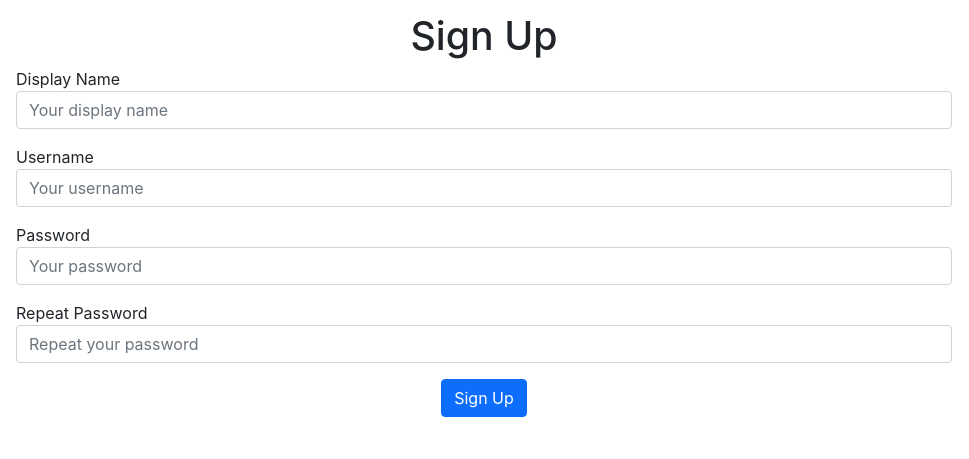
Test case: UserSignupPage › interactions › hides the validation error when the user changes the content of password
The image size is (969, 459).
In the field with placeholder "Your display name": (484, 110) [16,91,952,129], type "my-display-name"
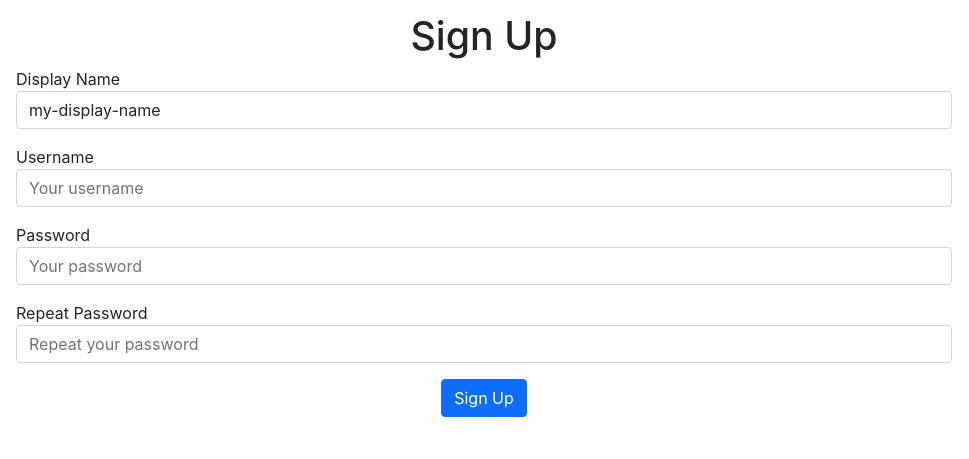
In the field with placeholder "Your username": (484, 188) [16,169,952,207], type "my-user-name"
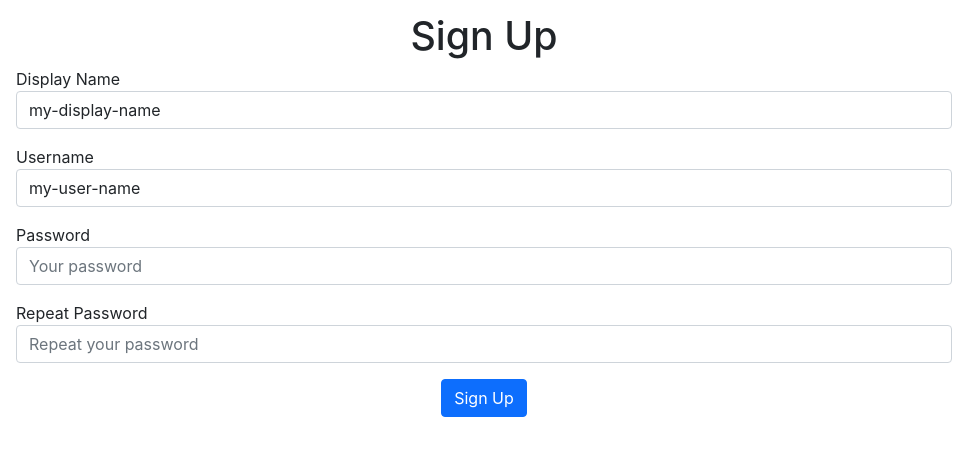
In the password field with placeholder "Your password": (484, 266) [16,247,952,285], type "P4ssword"
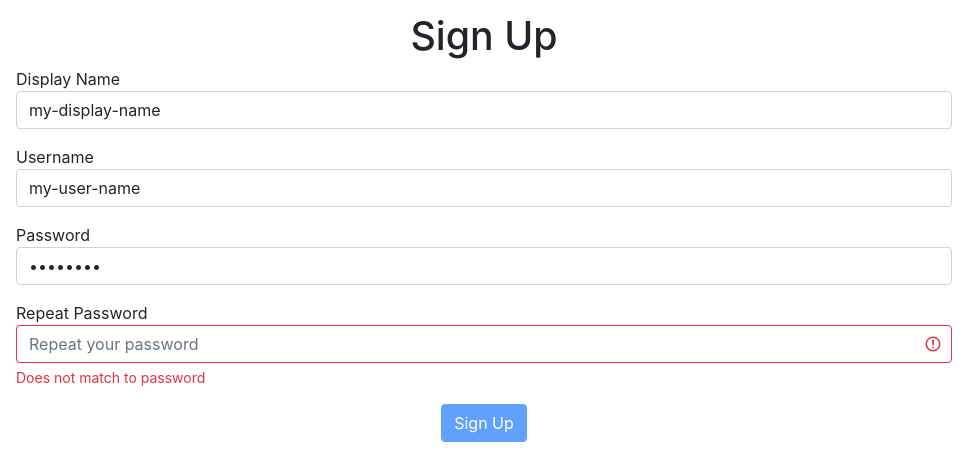
In the password field with placeholder "Repeat your password": (484, 344) [16,325,952,363], type "P4ssword"
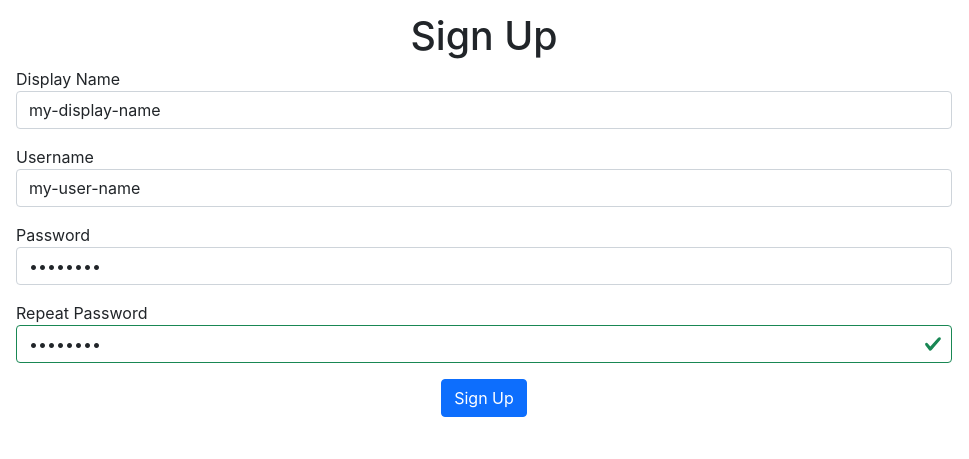
Click the button "Sign Up": (484, 398) [441,379,527,417]
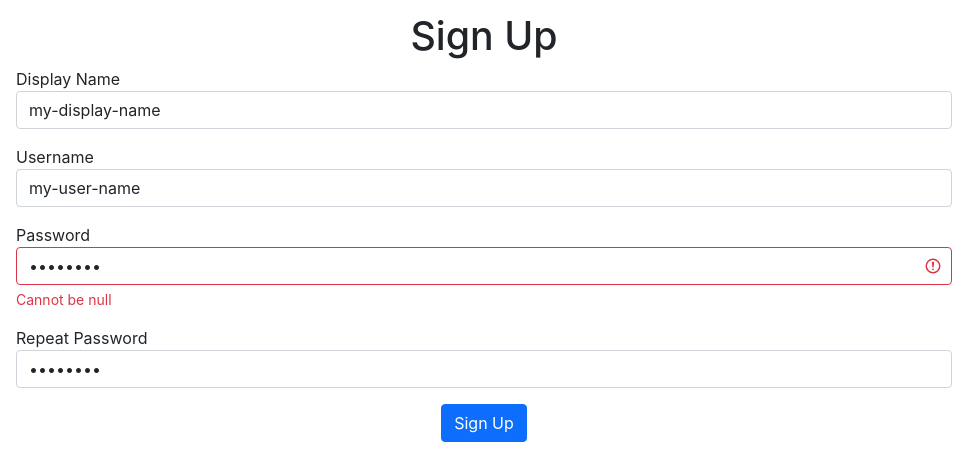
In the 1st password field with placeholder "Your password": (484, 266) [16,247,952,285], type "updated-password"
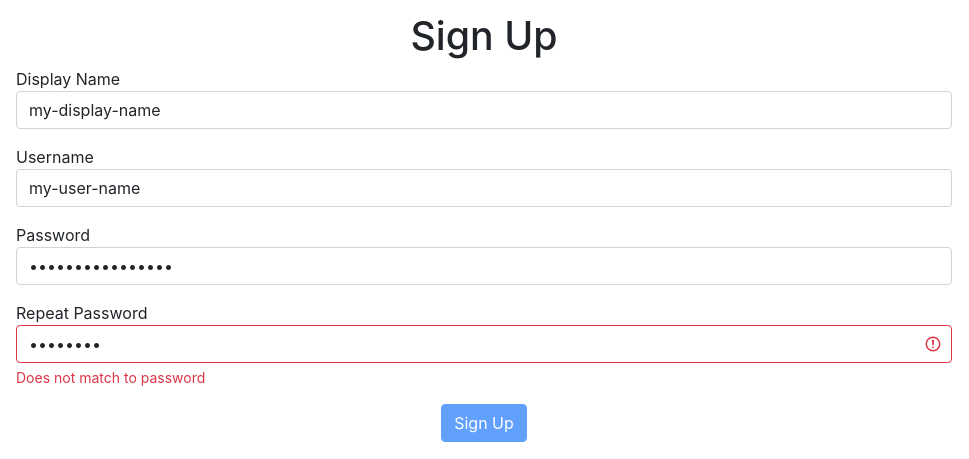
Check: the text "Cannot be null" is gone
